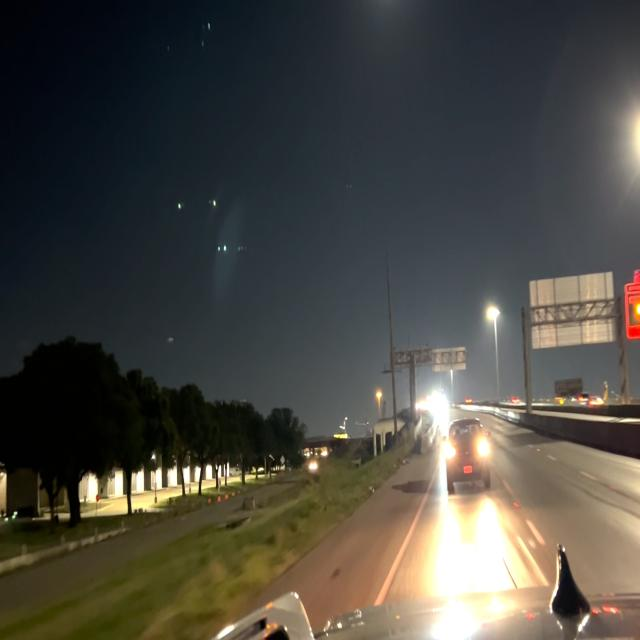back-of-sign: (528, 273, 620, 347), (430, 344, 469, 373)
